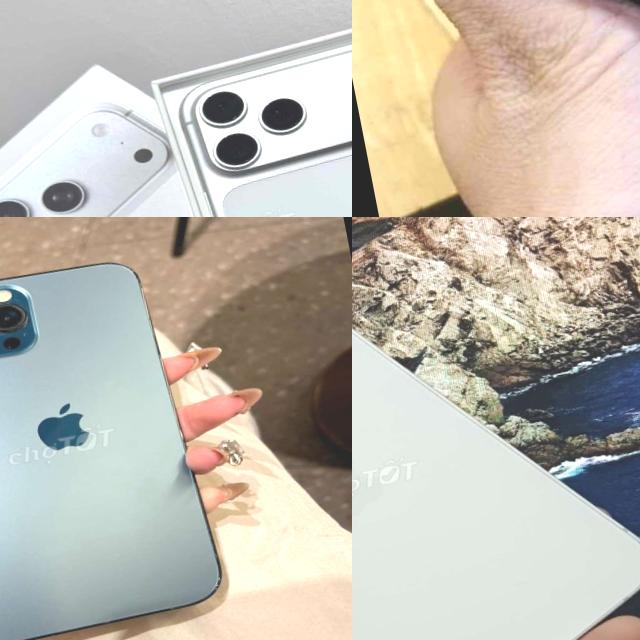gen_12_13: (0, 226, 237, 640)
gen_14: (352, 0, 640, 217)
gen_16: (352, 327, 640, 640)
gen_17: (161, 18, 352, 217)
